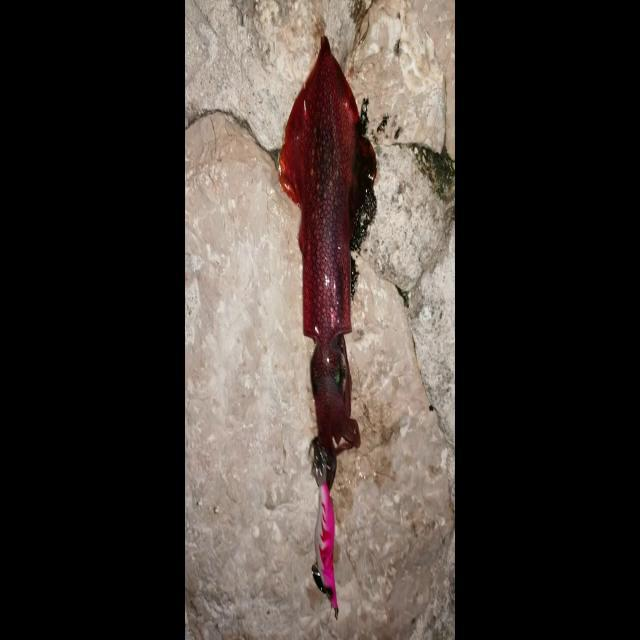squid: (279, 36, 376, 457)
